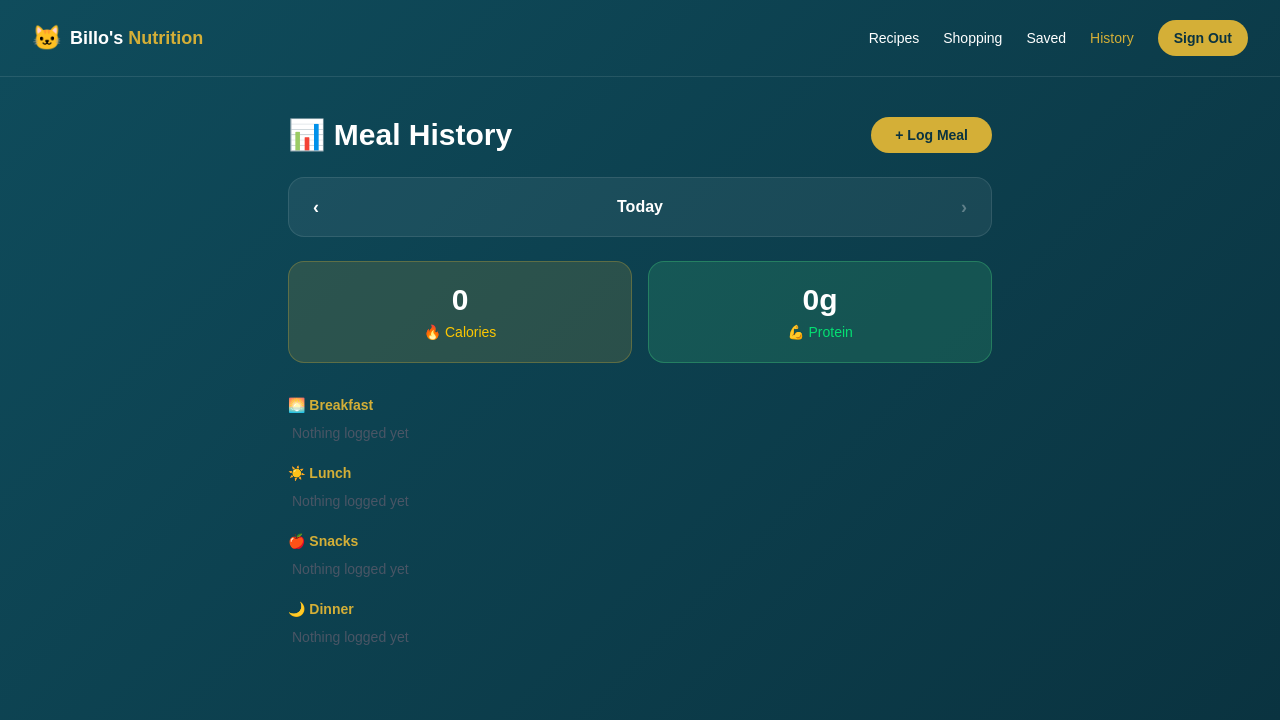
HistoryPage › adds a new meal
This screenshot has width=1280, height=720.
expect the text "🌅 Breakfast" is shown: met, box top-left (288, 395), bottom-right (373, 415)
Click the button "+ Log Meal" at (932, 135), box top-left (871, 117), bottom-right (992, 153)
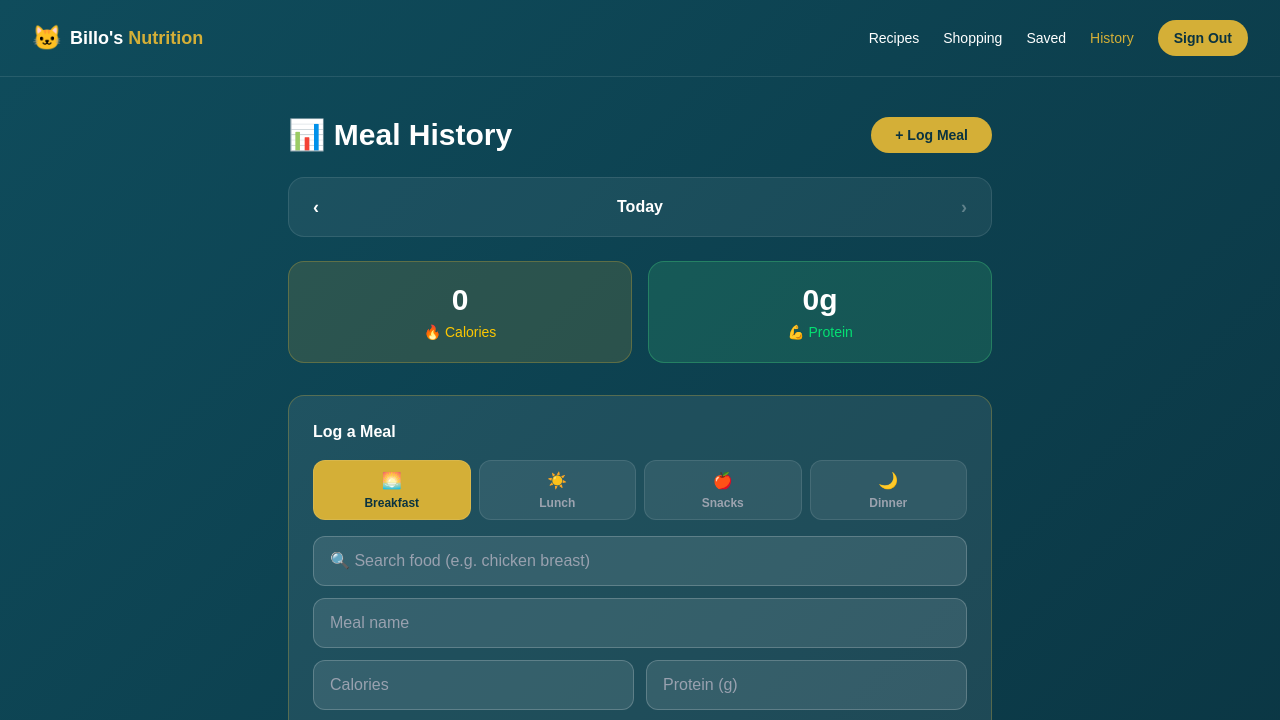
Type "Eggs" into the field with placeholder "Meal name" at (640, 623), box top-left (313, 598), bottom-right (967, 648)
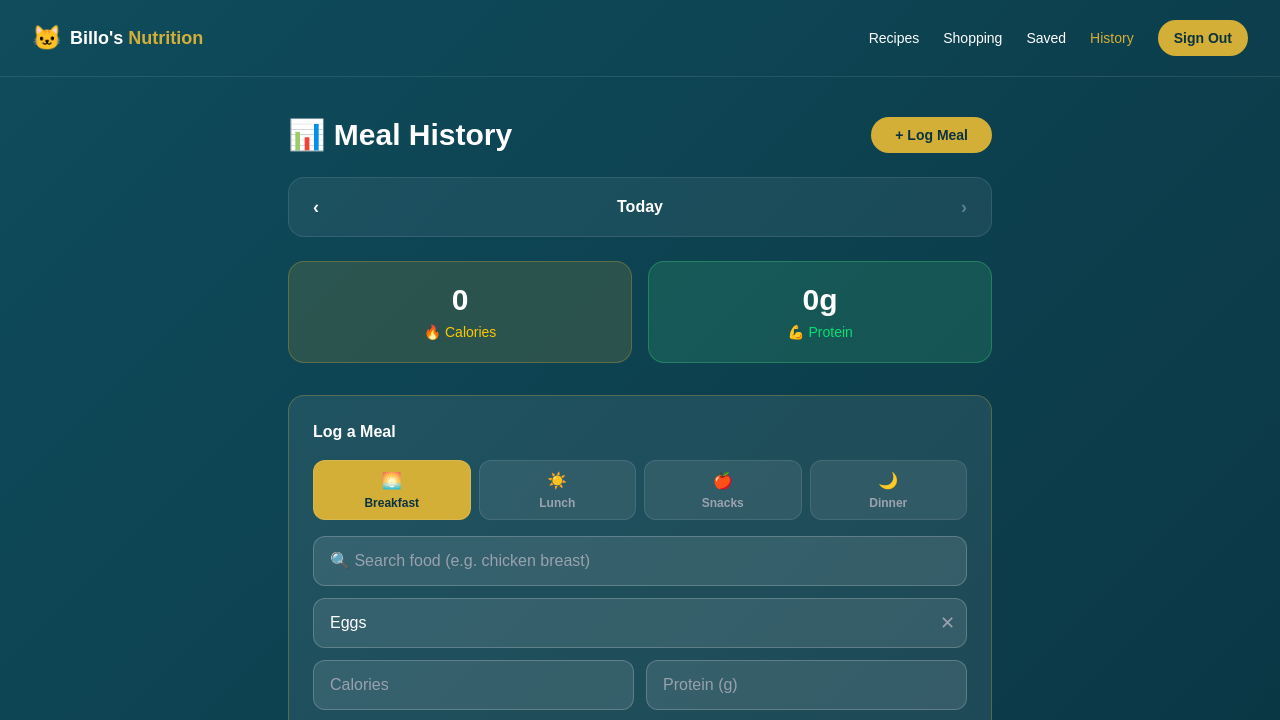
Type "200" into the number field with placeholder "Calories" at (474, 685), box top-left (313, 660), bottom-right (634, 710)
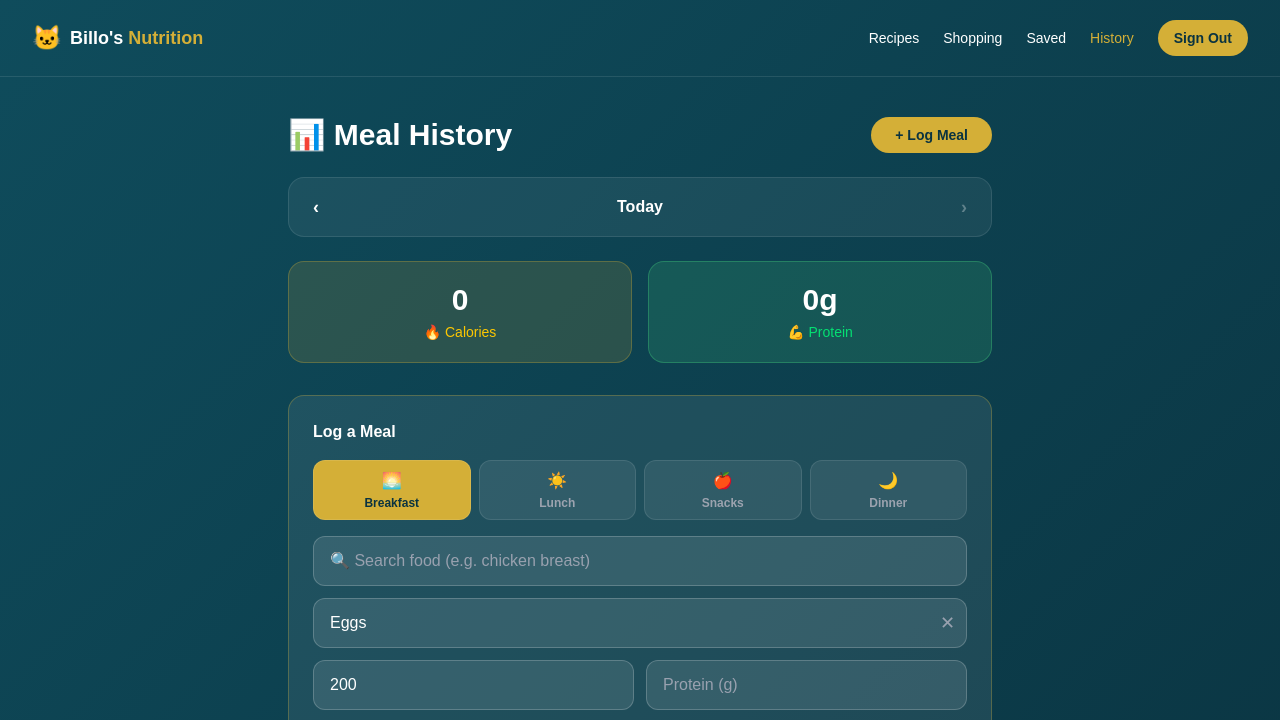
Type "15" into the number field with placeholder "Protein (g)" at (806, 685), box top-left (646, 660), bottom-right (967, 710)
(page scrolled)
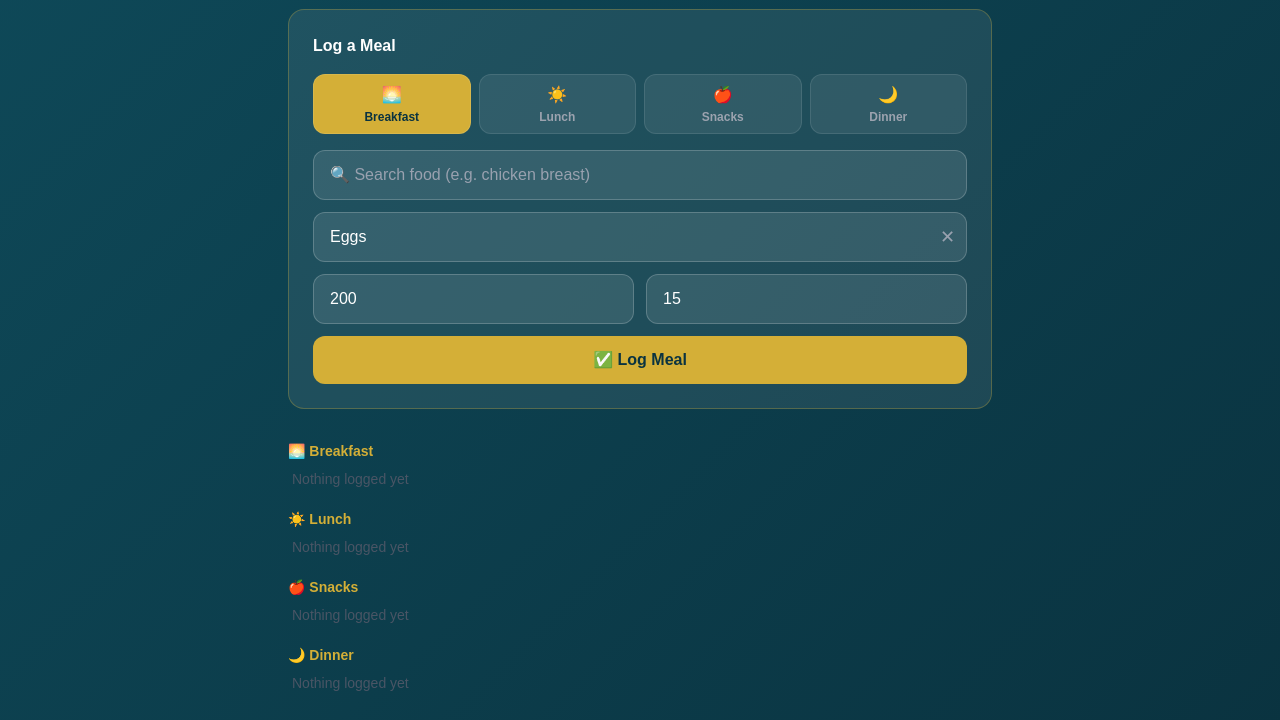
Click the button "✅ Log Meal" at (640, 360), box top-left (313, 336), bottom-right (967, 384)
(page scrolled)
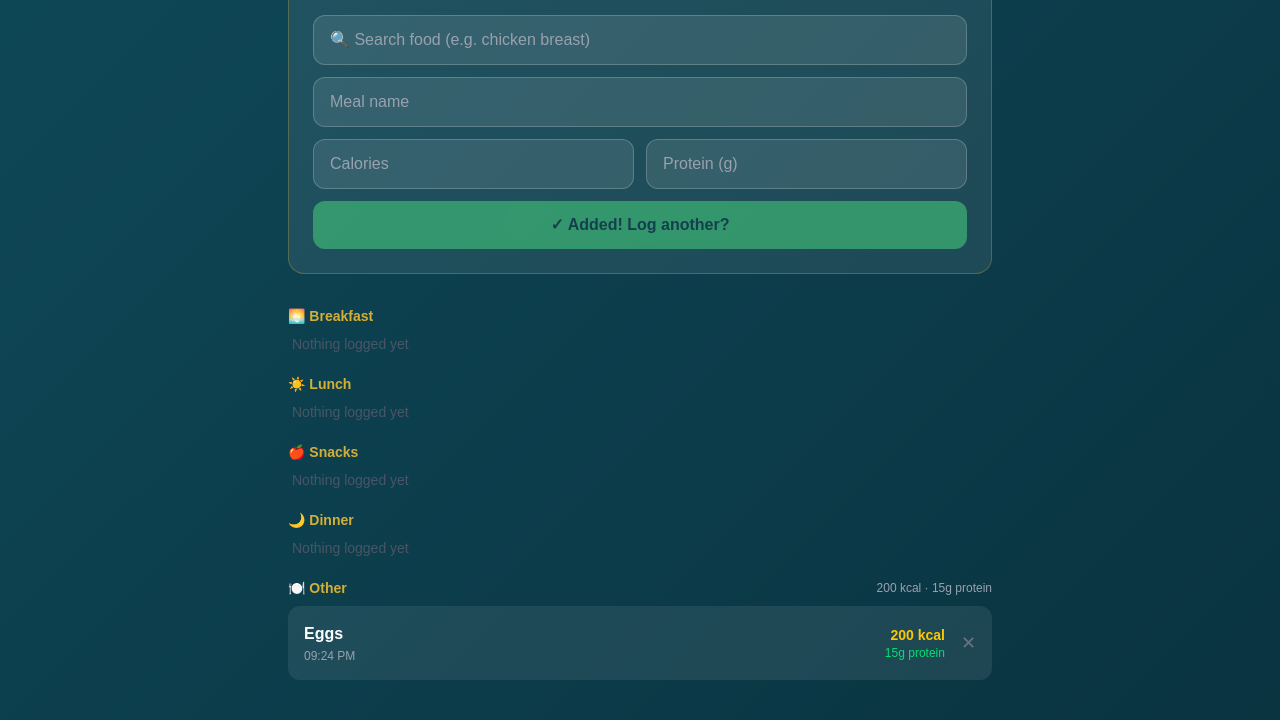
expect the text "Eggs" is shown: met, box top-left (304, 625), bottom-right (343, 642)
